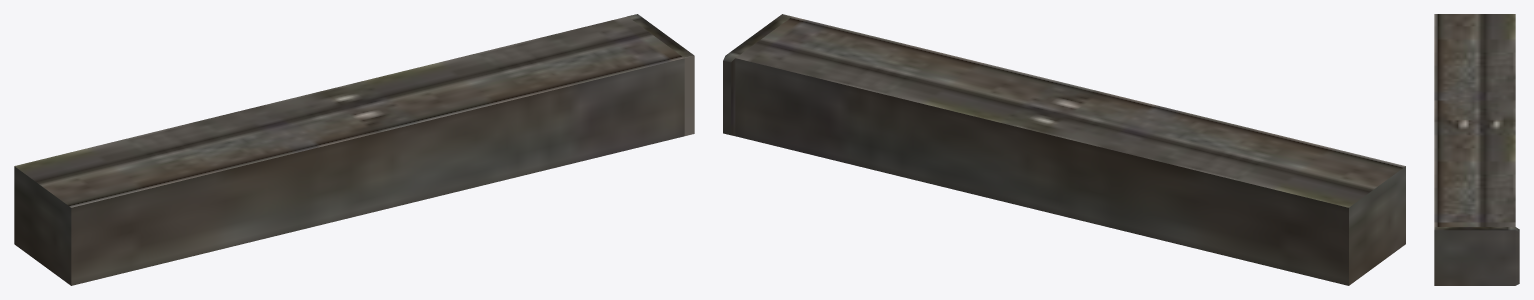
The model's file is Magazine_MAC10.fbx.
The picture shows the model from 3 angles, left to right: view 1: azimuth 30°, elevation 25°; view 2: azimuth 150°, elevation 25°; view 3: azimuth 270°, elevation 25°; orthographic projection. The views are drawn at different scales.
Parts seen in each view (by area): view 1: MAC10_Mag; view 2: MAC10_Mag; view 3: MAC10_Mag.
Part boxes in pixels (x1,y1,x2,y2): MAC10_Mag: [14, 14, 694, 285]; MAC10_Mag: [723, 14, 1405, 285]; MAC10_Mag: [1434, 14, 1519, 285].
Size of the model in its own units: 0.1532 by 0.0184 by 0.0255.
